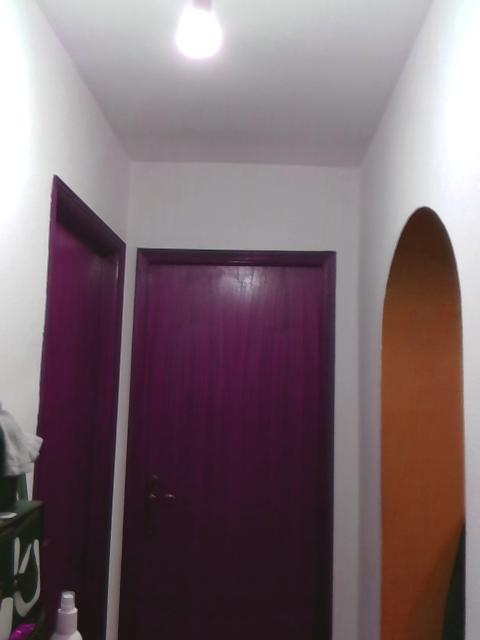closed_door: (117, 247, 337, 639)
